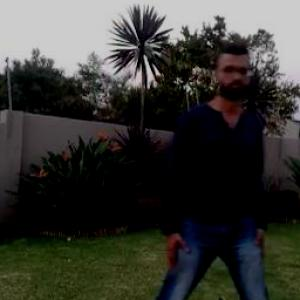follow: (166, 30, 279, 299)
